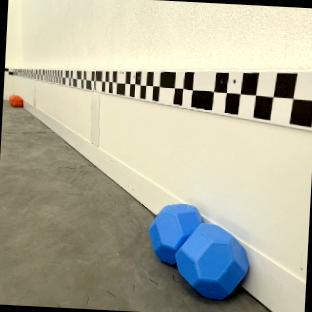V5_BLUE: (176, 223, 248, 298), (149, 203, 201, 262)
V5_RED: (9, 94, 22, 106)
